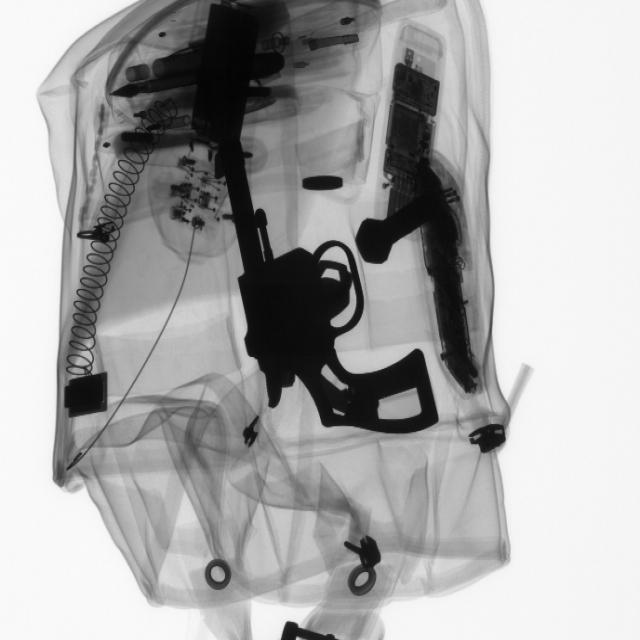GUN: (208, 134, 447, 436)
